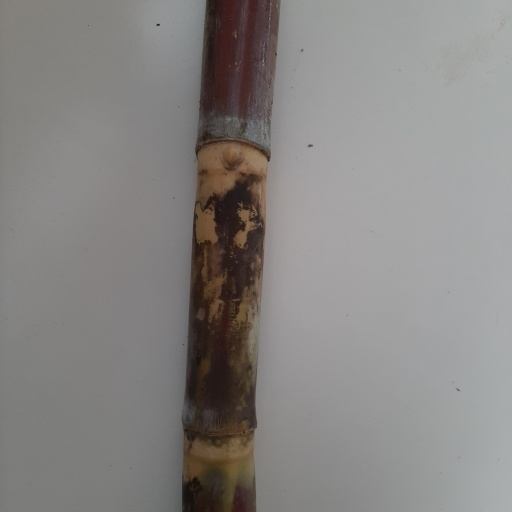Bud: (218, 142, 245, 173)
